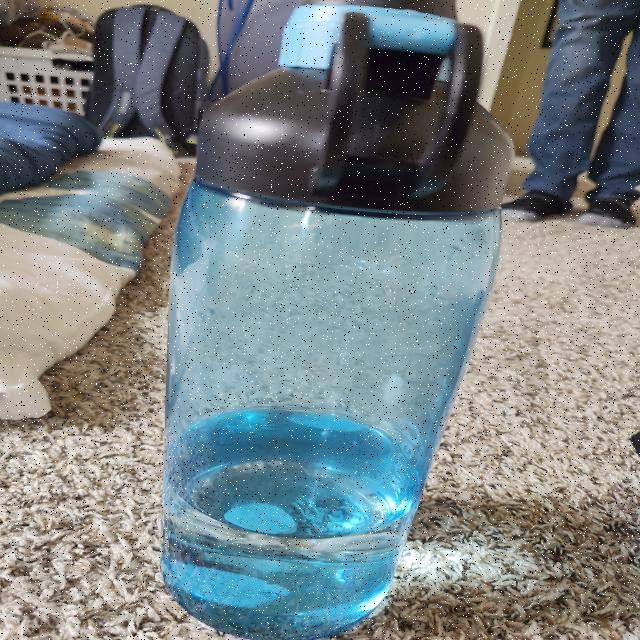bottle: (169, 0, 510, 633)
